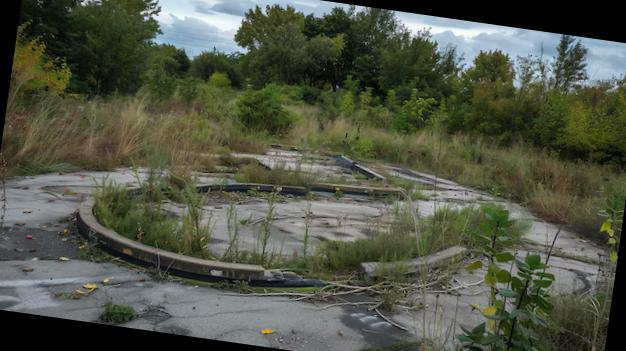overgrown grass: (0, 52, 626, 251), (95, 149, 489, 266), (538, 256, 616, 351), (236, 166, 343, 185), (100, 305, 139, 321)
